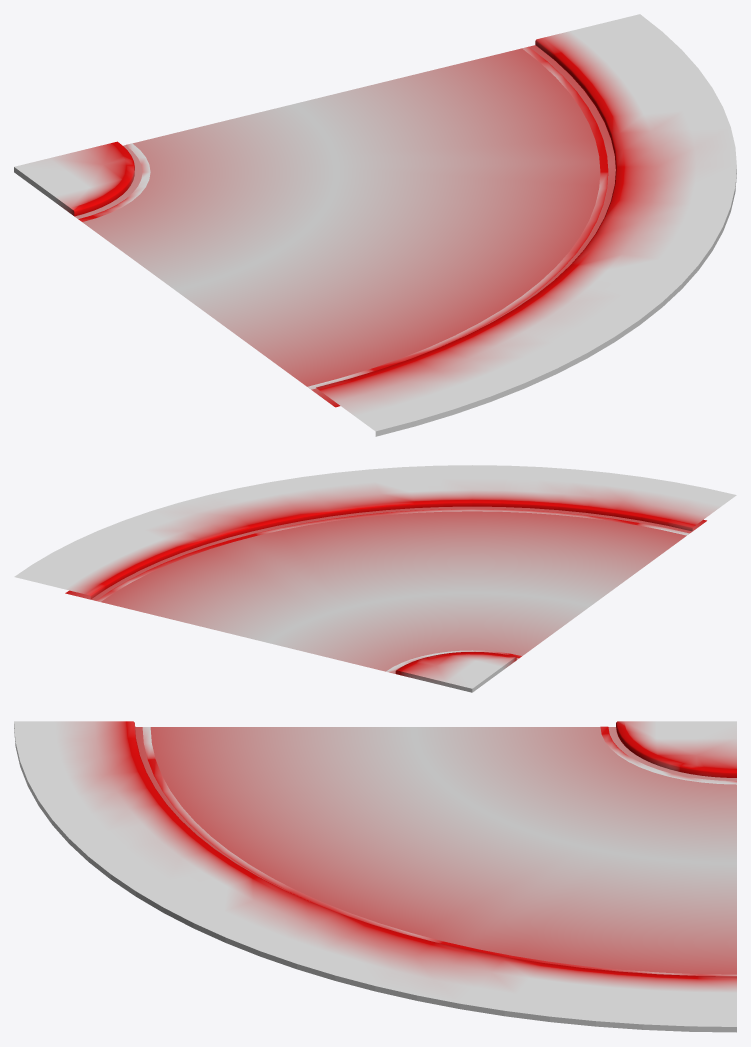
Rendered from Street_Curve_4LaneShort.gltf.
The picture shows the model from 3 angles, top to bottom: view 1: azimuth 30°, elevation 25°; view 2: azimuth 150°, elevation 25°; view 3: azimuth 270°, elevation 25°; orthographic projection. The views are drawn at different scales.
Parts seen in each view (by area): view 1: Street_Curve_4LaneShort; view 2: Street_Curve_4LaneShort; view 3: Street_Curve_4LaneShort.
Boxes of the visible parts, <box> form: Street_Curve_4LaneShort: <box>14,14,736,436</box>; Street_Curve_4LaneShort: <box>14,465,736,692</box>; Street_Curve_4LaneShort: <box>14,721,736,1032</box>.
Bounding box in the file's own units: 18 × 0.15 × 18.
